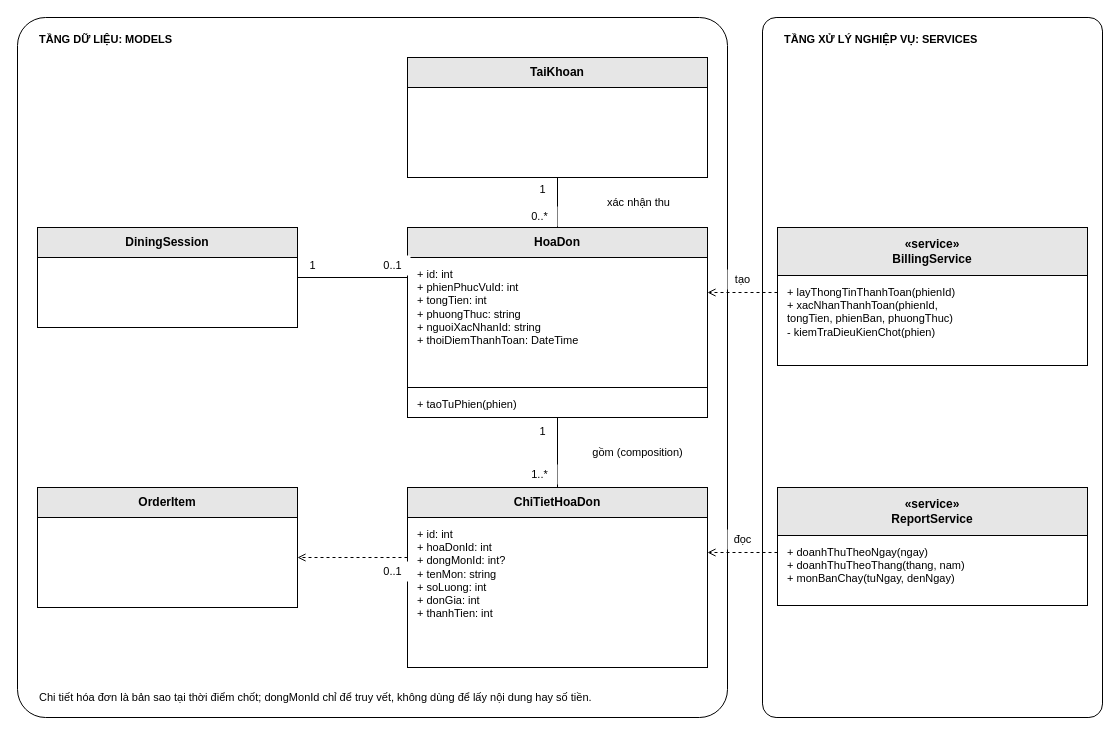
The diagram is 1120 pixels wide and 735 high, and some of its shapes have lost their labels. The centre of each missing label's shape, as x and y in pixels:
"+ id: int + soLuong: int + donGiaDaLuu: int + trangThai: TrangThaiDongMon" goes at point (167, 562).
"+ id: int + trangThai: TrangThaiPhien + PaymentVersion: int" goes at point (167, 292).
"+ id: string + hoTen: string + vaiTro: string + hoatDong: bool" goes at point (557, 132).
"truy vết" goes at point (351, 544).
